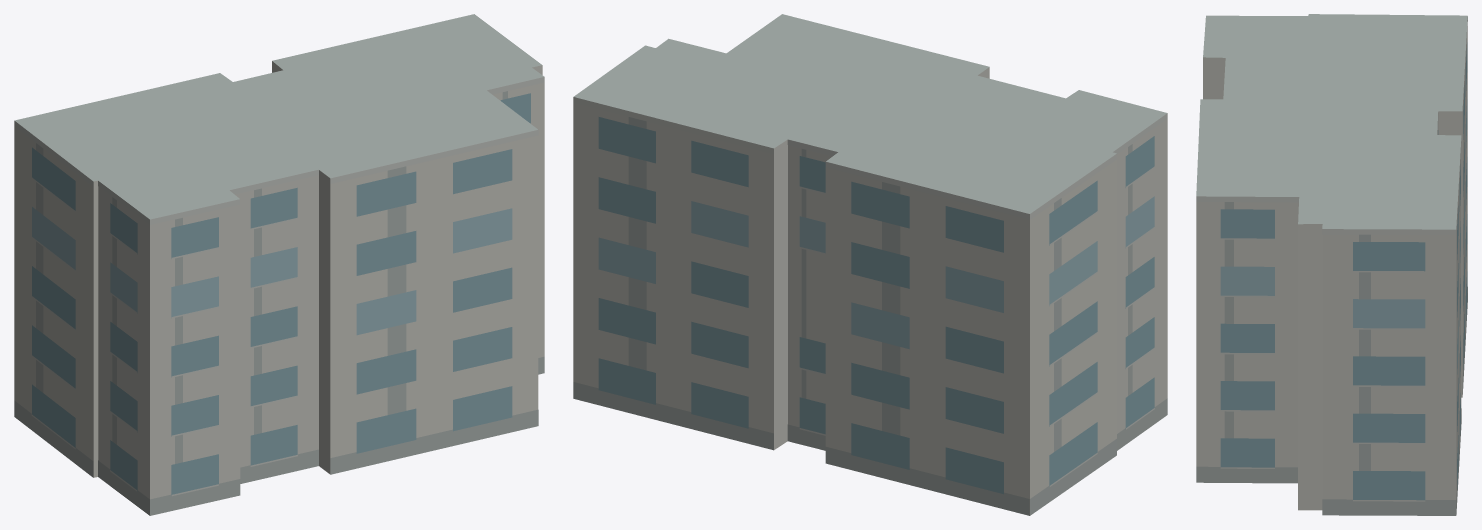
Rendered from survey-upis-32837446.glb.
3 renders of one model, left to right at view 1: azimuth 30°, elevation 25°; view 2: azimuth 150°, elevation 25°; view 3: azimuth 270°, elevation 25°, orthographic. The views are drawn at different scales.
Parts seen in each view (by area): view 1: survey-upis-32837446.tmp; view 2: survey-upis-32837446.tmp; view 3: survey-upis-32837446.tmp.
Part boxes in pixels (left/top/right/bottom): survey-upis-32837446.tmp: left=14, top=14, right=544, bottom=515; survey-upis-32837446.tmp: left=573, top=14, right=1167, bottom=515; survey-upis-32837446.tmp: left=1196, top=14, right=1467, bottom=515.
Bounding box in the file's own units: 20.68 × 12.8 × 11.01.
